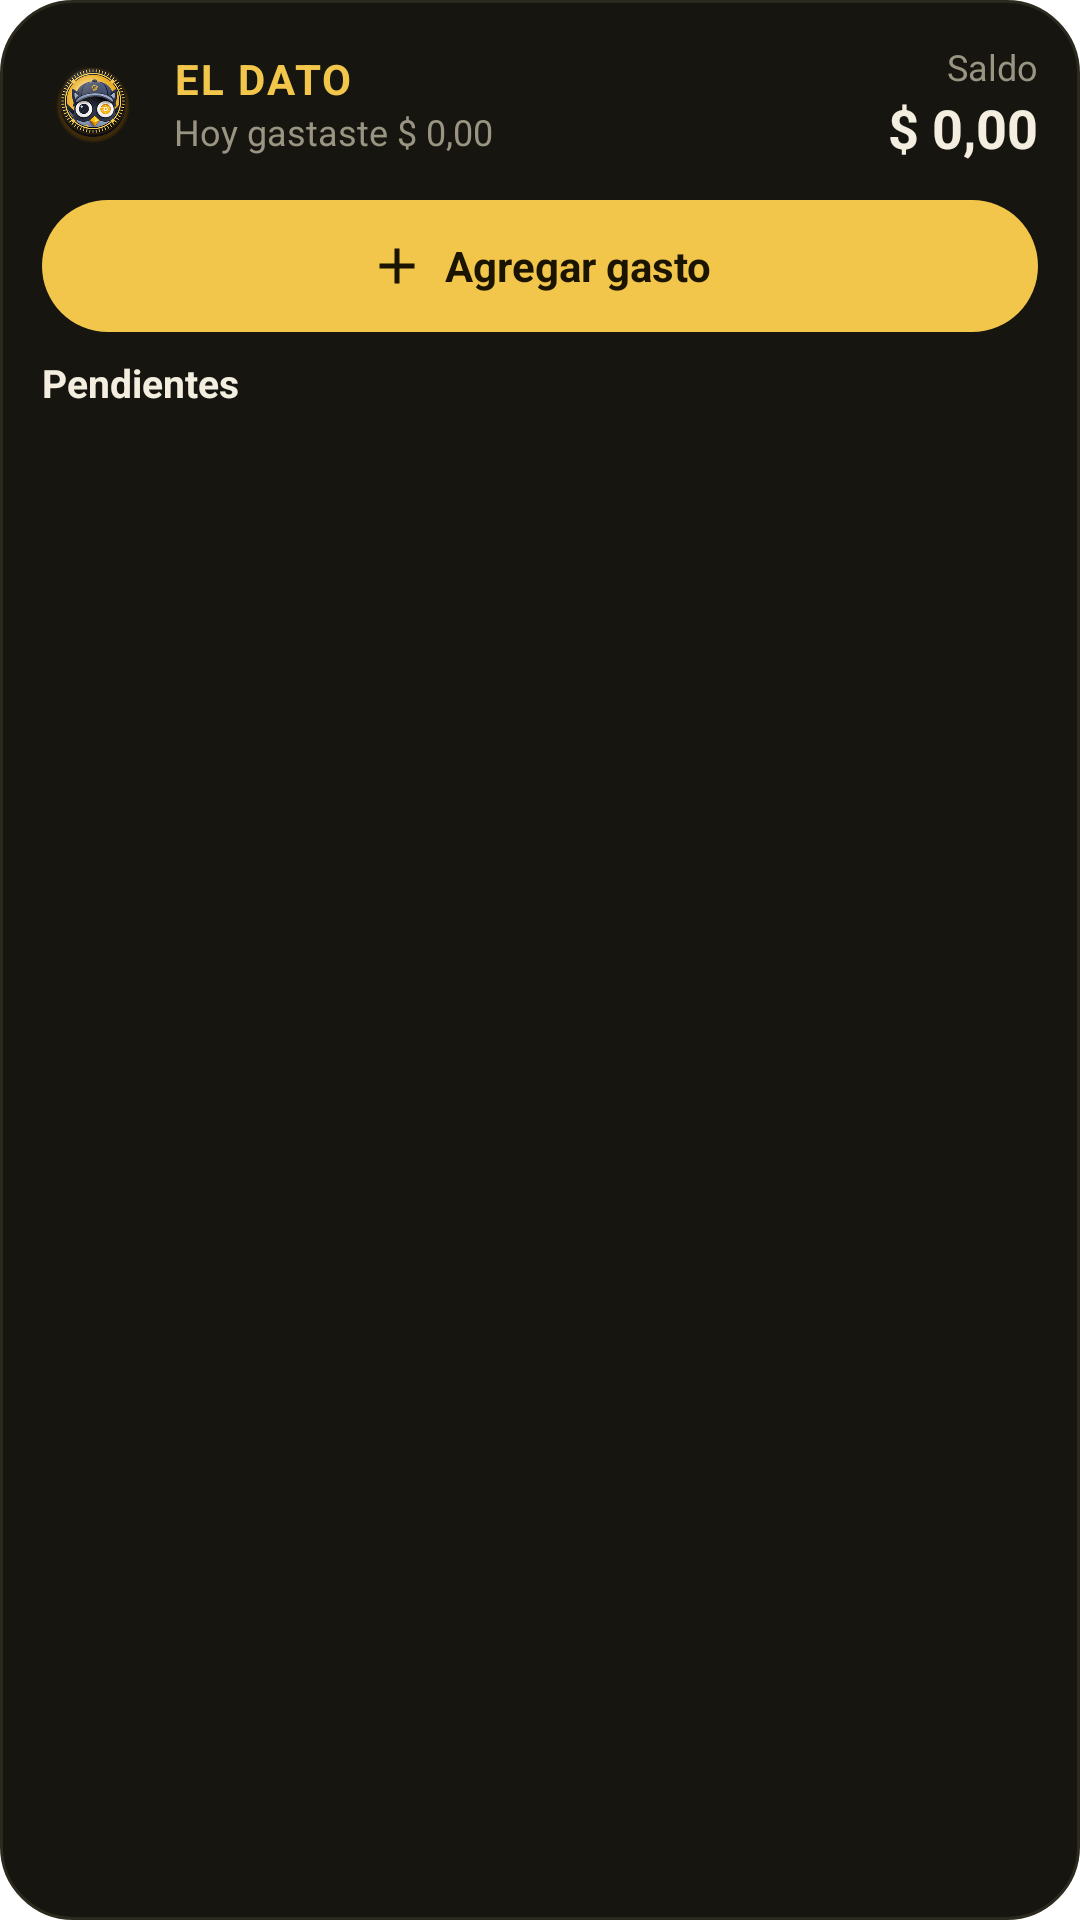

Point at icon controls on the screen. Image size 1080*1920, points as [x,y].
add: [397,266]
widget coin: [93,104]
